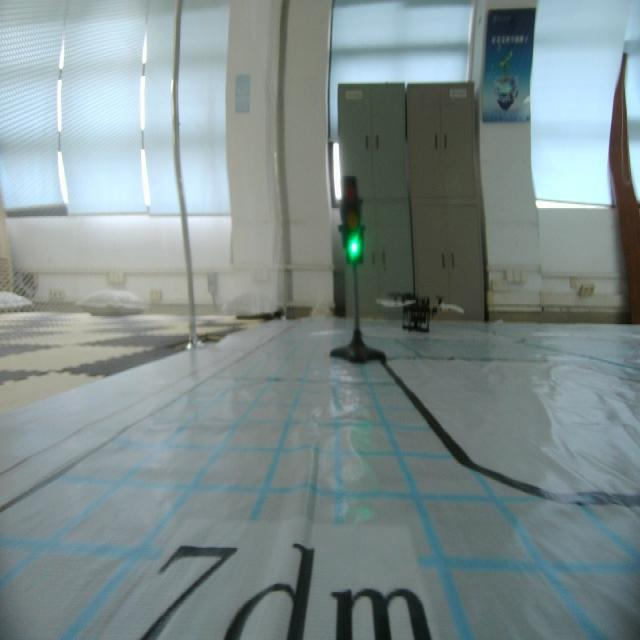green: (338, 176, 367, 269)
